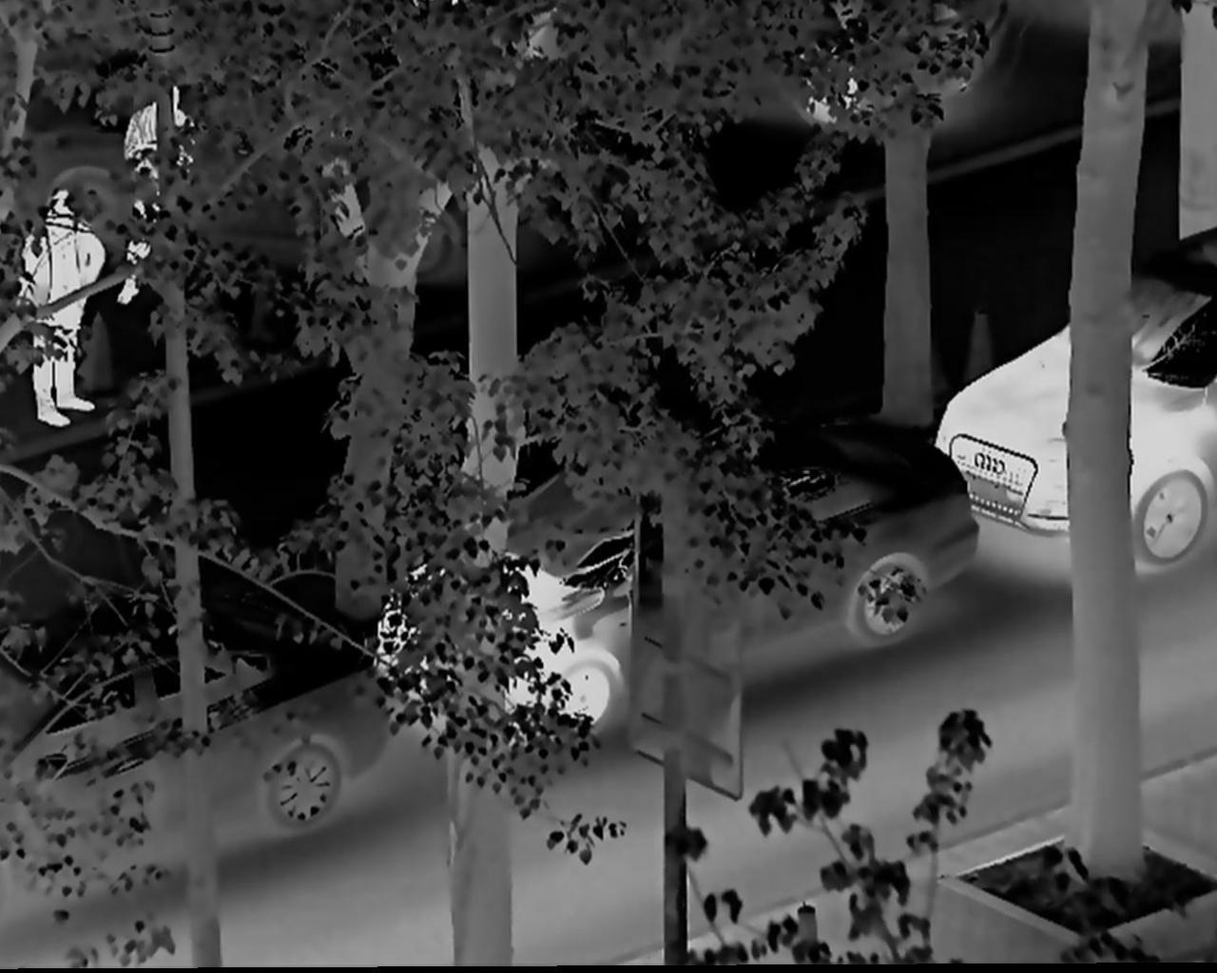person: (112, 86, 210, 313), (20, 188, 100, 430)
